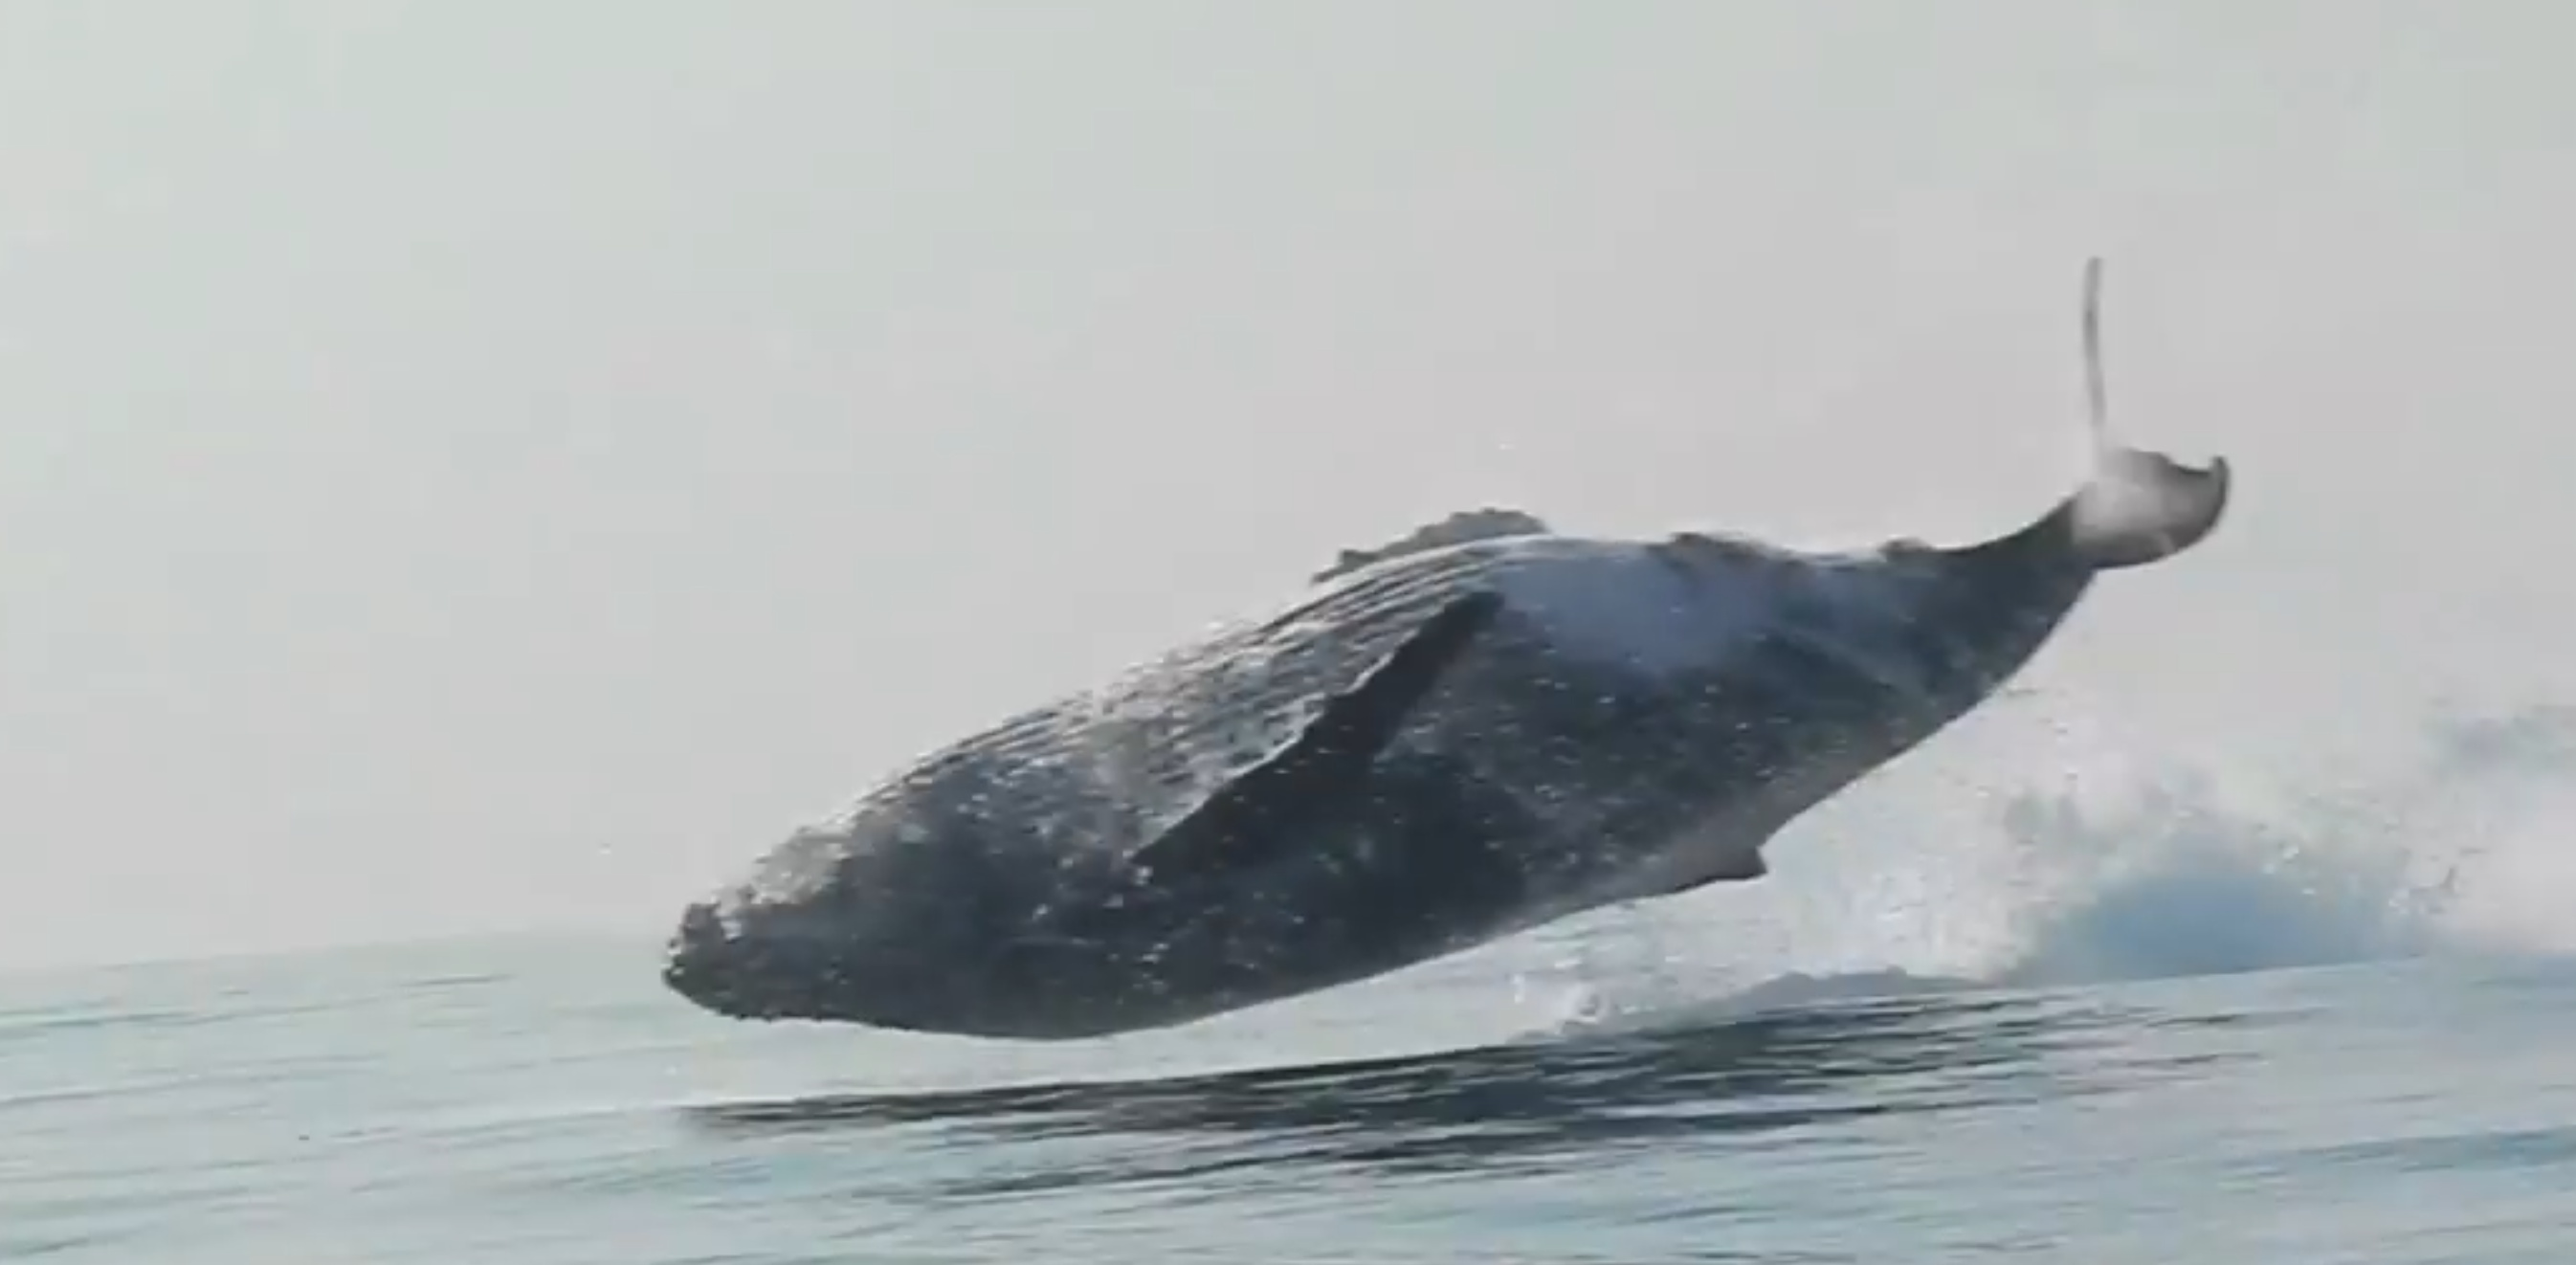humpback: (647, 504, 2208, 1030)
